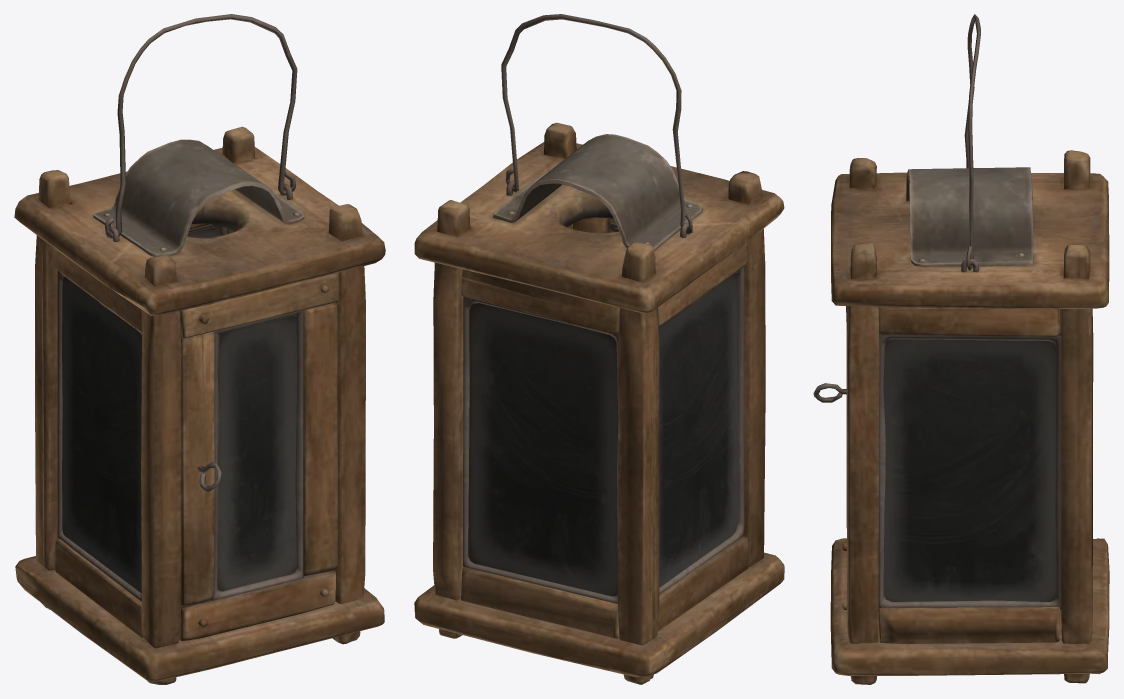
File: wooden-lantern.glb
3 renders of one model, left to right at view 1: azimuth 30°, elevation 25°; view 2: azimuth 150°, elevation 25°; view 3: azimuth 270°, elevation 25°, orthographic.
Visible parts, largest first — view 1: wooden_lantern_01; view 2: wooden_lantern_01; view 3: wooden_lantern_01.
Part boxes in pixels (bbox=[...]): wooden_lantern_01: bbox=[14, 14, 385, 684]; wooden_lantern_01: bbox=[414, 14, 784, 684]; wooden_lantern_01: bbox=[813, 14, 1109, 684].
Bounding box in the file's own units: 0.2211 × 0.5296 × 0.2347.
Materials: 2 (2 with a texture image).
